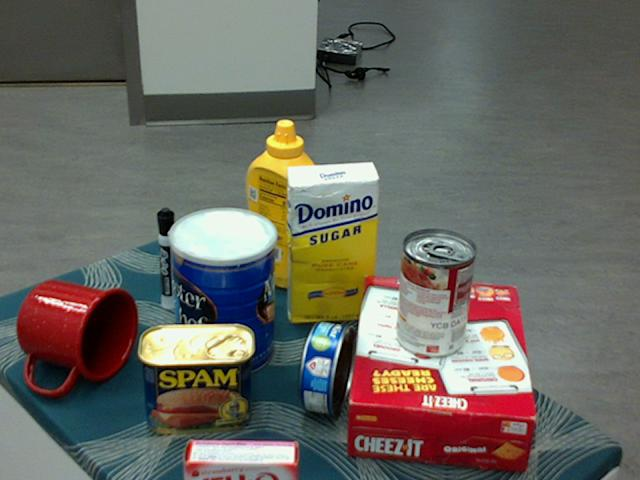cracker_box: (345, 278, 536, 467)
gelatin_box: (180, 438, 295, 479)
large_marker: (157, 207, 176, 308)
master_chef_can: (169, 208, 277, 380)
mug: (16, 279, 138, 394)
mustard_bottle: (245, 119, 321, 291)
potted_meat_can: (137, 323, 254, 432)
sugar_box: (286, 163, 379, 323)
tomato_soup_can: (394, 230, 475, 359)
tuna_fish_can: (299, 321, 355, 416)
